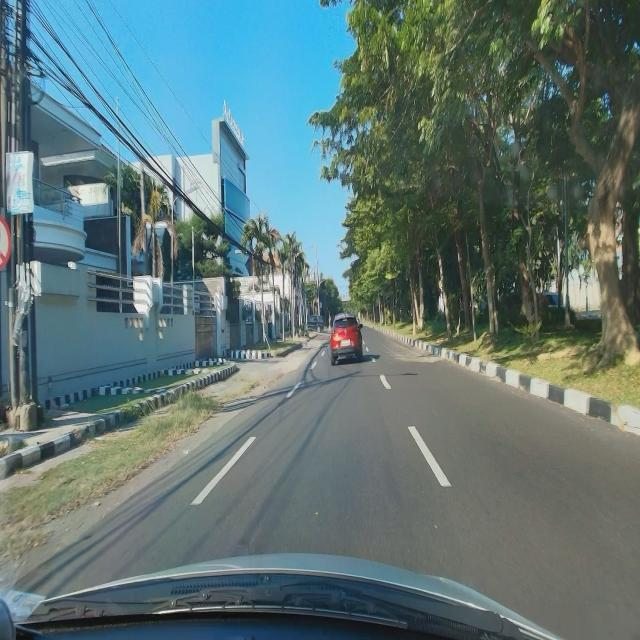car: (328, 310, 364, 367)
